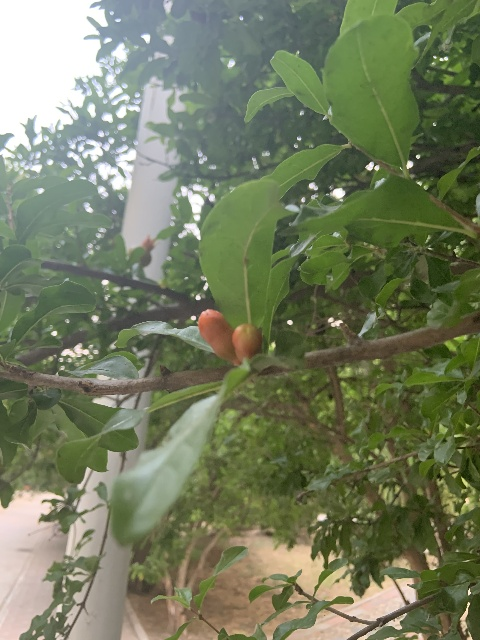bud: (197, 308, 237, 363), (232, 322, 262, 364)
